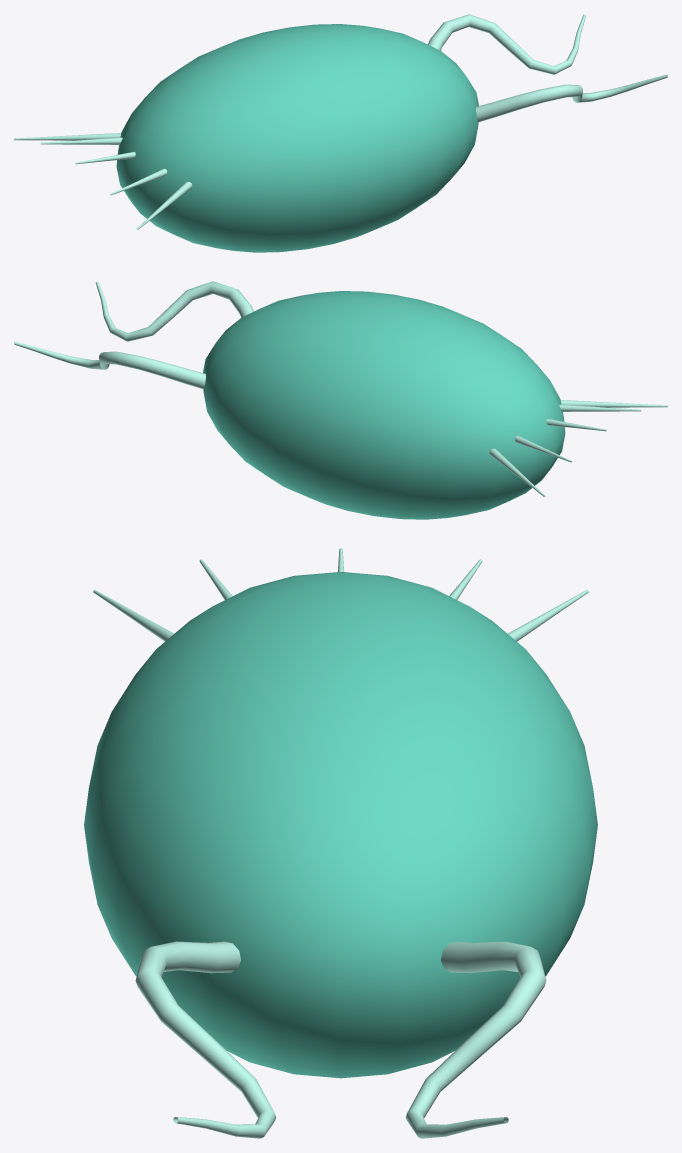
File: plankton.glb
3 renders of one model, top to bottom at view 1: azimuth 30°, elevation 25°; view 2: azimuth 150°, elevation 25°; view 3: azimuth 270°, elevation 25°, orthographic. The views are drawn at different scales.
Parts seen in each view (by area): view 1: plankton_textured_mesh; view 2: plankton_textured_mesh; view 3: plankton_textured_mesh.
Part boxes in pixels (left/top/right/bottom): plankton_textured_mesh: left=14, top=14, right=667, bottom=252; plankton_textured_mesh: left=14, top=281, right=667, bottom=519; plankton_textured_mesh: left=84, top=548, right=597, bottom=1138.
Size of the model in its own units: 2.78 by 0.92 by 1.12.
Materials: 1 (1 with a texture image).
